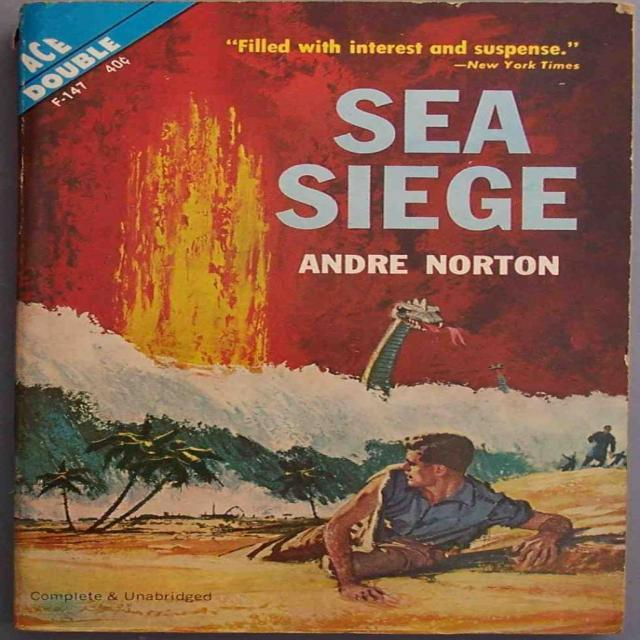book: (12, 2, 630, 640)
